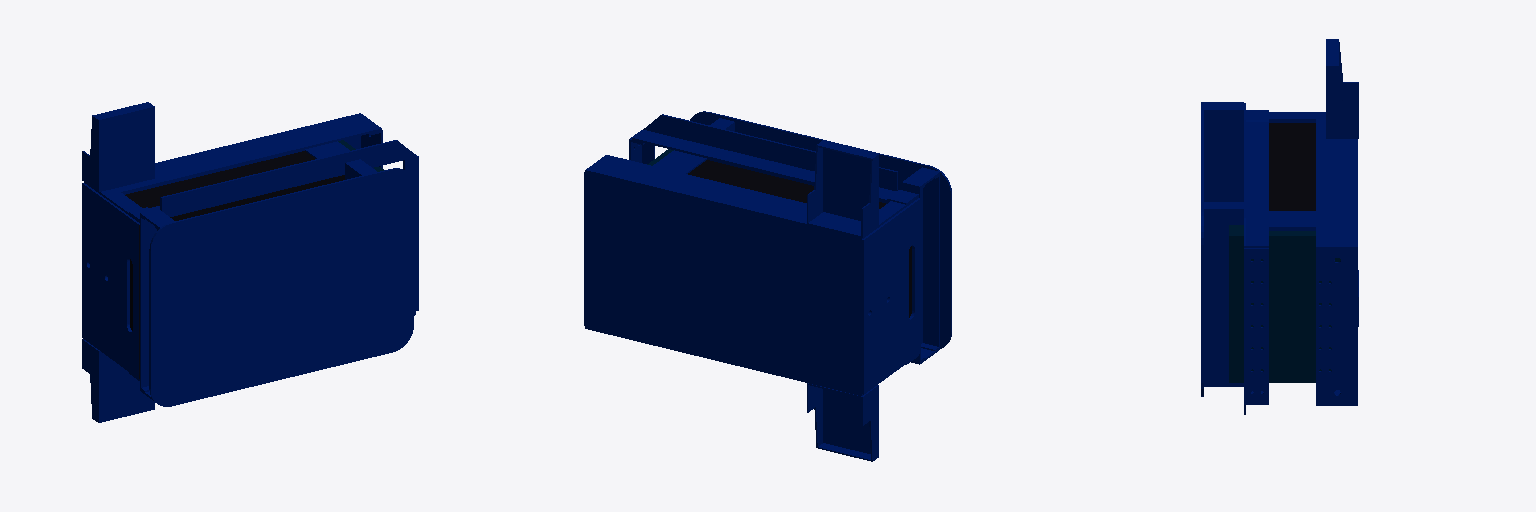
The model's file is tinyRobot_body.obj.
The picture shows the model from 3 angles: view 1: azimuth 30°, elevation 25°; view 2: azimuth 150°, elevation 25°; view 3: azimuth 270°, elevation 25°; orthographic projection.
Parts seen in each view (by area): view 1: _3DGeom_175, Body_2, _3DGeom_176, Body_1; view 2: _3DGeom_175, Body_2, Body_1, _3DGeom_176; view 3: _3DGeom_175, _3DGeom_174, _3DGeom_176, Body_2.
Part boxes in pixels (x1,y1,x2,y2): _3DGeom_175: (82,113,418,406); Body_2: (82,102,154,191); _3DGeom_176: (125,151,344,378); Body_1: (82,339,154,422); _3DGeom_175: (584,111,951,395); Body_2: (807,141,878,237); Body_1: (807,383,878,461); _3DGeom_176: (688,160,911,317); _3DGeom_175: (1201,102,1357,414); _3DGeom_174: (1229,225,1340,382); _3DGeom_176: (1269,123,1315,210); Body_2: (1326,39,1358,138).
Size of the model in its own units: 0.412 by 0.412 by 0.194.